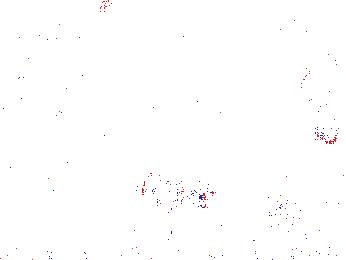flame jellyfish: (297, 55, 346, 145), (140, 167, 214, 223), (267, 171, 345, 224)
